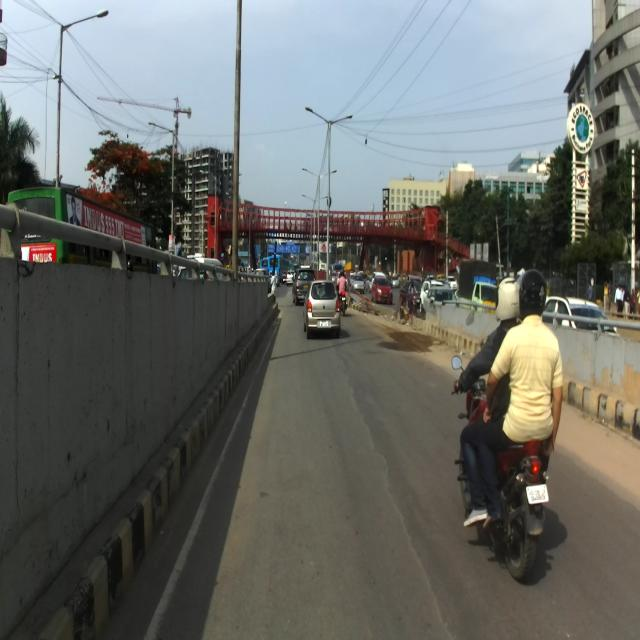car ahead at: (304, 271, 341, 340)
motorcycle ahead at: (499, 418, 563, 580)
